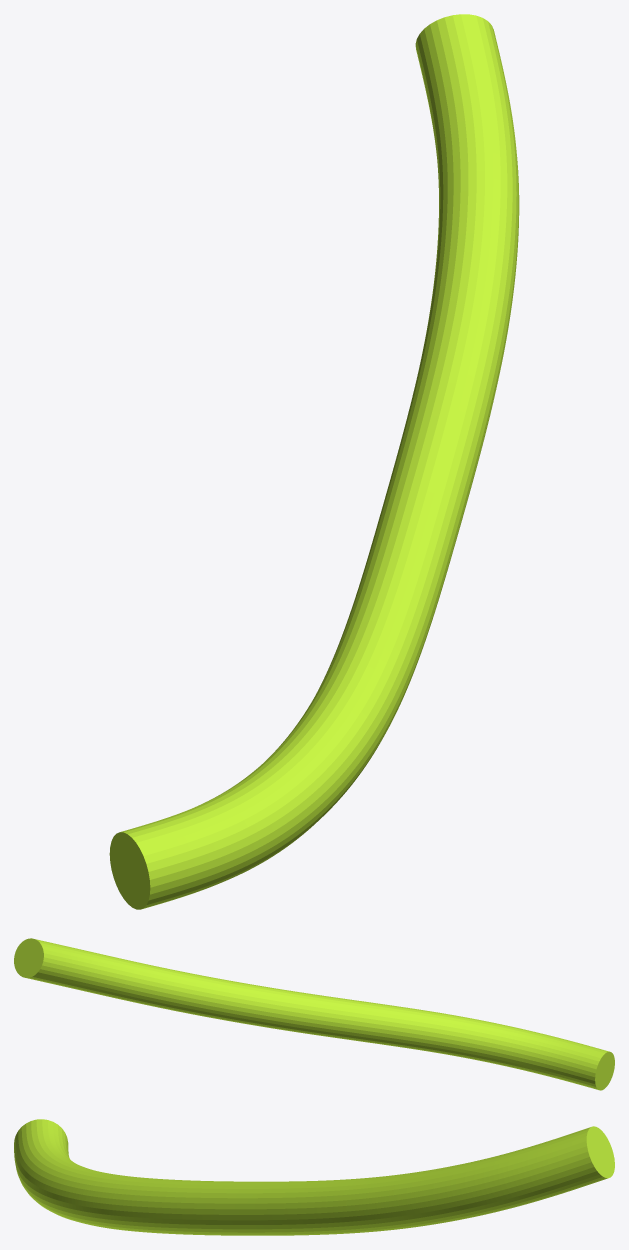
File: faces32 - linechin.glb
3 views of the same model, one above another, from view 1: azimuth 30°, elevation 25°; view 2: azimuth 150°, elevation 25°; view 3: azimuth 270°, elevation 25° (orthographic). The views are drawn at different scales.
Parts seen in each view (by area): view 1: Tube; view 2: Tube; view 3: Tube.
Part boxes in pixels (<box>): Tube: <box>109,14,519,909</box>; Tube: <box>14,938,614,1090</box>; Tube: <box>14,1119,614,1235</box>.
Size of the model in its own units: 0.4553 by 0.2347 by 0.4529.
